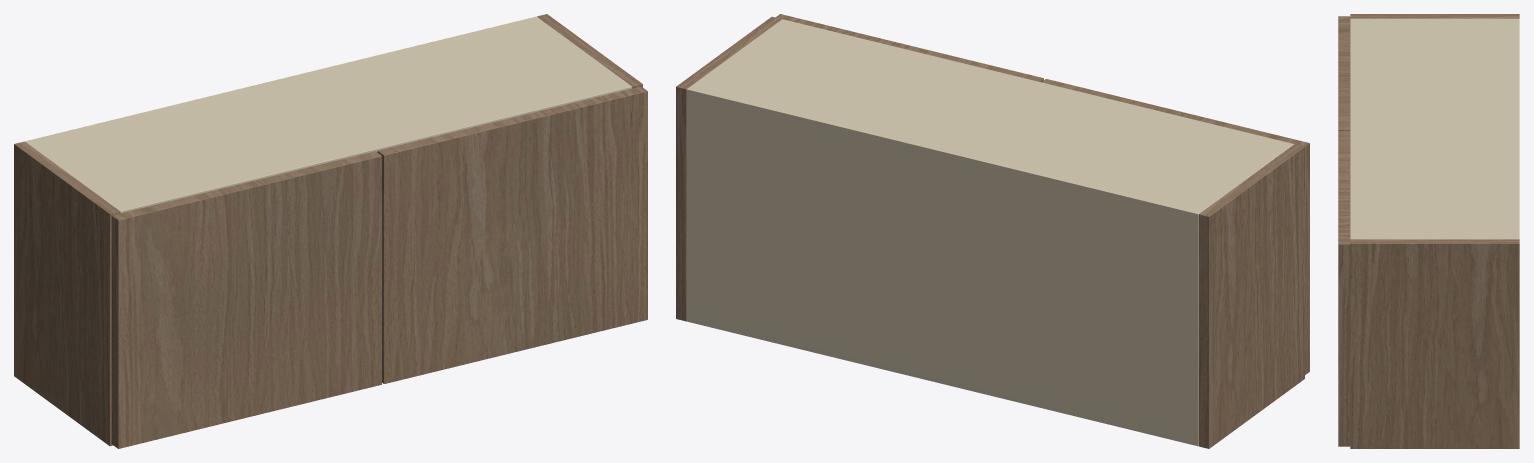
File: oppein-ply-mnw-w3615.glb
3 views of the same model, side by side, from view 1: azimuth 30°, elevation 25°; view 2: azimuth 150°, elevation 25°; view 3: azimuth 270°, elevation 25° (orthographic). The views are drawn at different scales.
Parts seen in each view (by area): view 1: Door, Door.001, Cabinet top, Cabinet side, Cabinet back, Cabinet side.001; view 2: Cabinet back, Cabinet top, Cabinet side, Cabinet bottom, Cabinet side.001, Door, Door.001; view 3: Cabinet top, Cabinet side.001, Door.001, Door, Cabinet back, Cabinet side.
Part boxes in pixels (left/top/right/bottom): Door: left=111, top=151, right=381, bottom=448; Door.001: left=377, top=86, right=647, bottom=383; Cabinet top: left=25, top=16, right=632, bottom=213; Cabinet side: left=14, top=141, right=120, bottom=446; Cabinet back: left=25, top=16, right=539, bottom=143; Cabinet side.001: left=537, top=14, right=642, bottom=88; Cabinet back: left=686, top=86, right=1201, bottom=446; Cabinet top: left=686, top=19, right=1293, bottom=224; Cabinet side: left=1199, top=144, right=1304, bottom=448; Cabinet bottom: left=686, top=311, right=1198, bottom=445; Cabinet side.001: left=676, top=16, right=781, bottom=321; Door: left=1041, top=79, right=1309, bottom=374; Door.001: left=776, top=14, right=1043, bottom=81; Cabinet top: left=1350, top=18, right=1519, bottom=239; Cabinet side.001: left=1350, top=239, right=1519, bottom=448; Door.001: left=1338, top=131, right=1350, bottom=446; Door: left=1338, top=16, right=1350, bottom=130; Cabinet back: left=1513, top=18, right=1519, bottom=239; Cabinet side: left=1350, top=14, right=1519, bottom=18.
Size of the model in its own units: 0.9144 by 0.381 by 0.3048.
2 materials, 1 textured.
